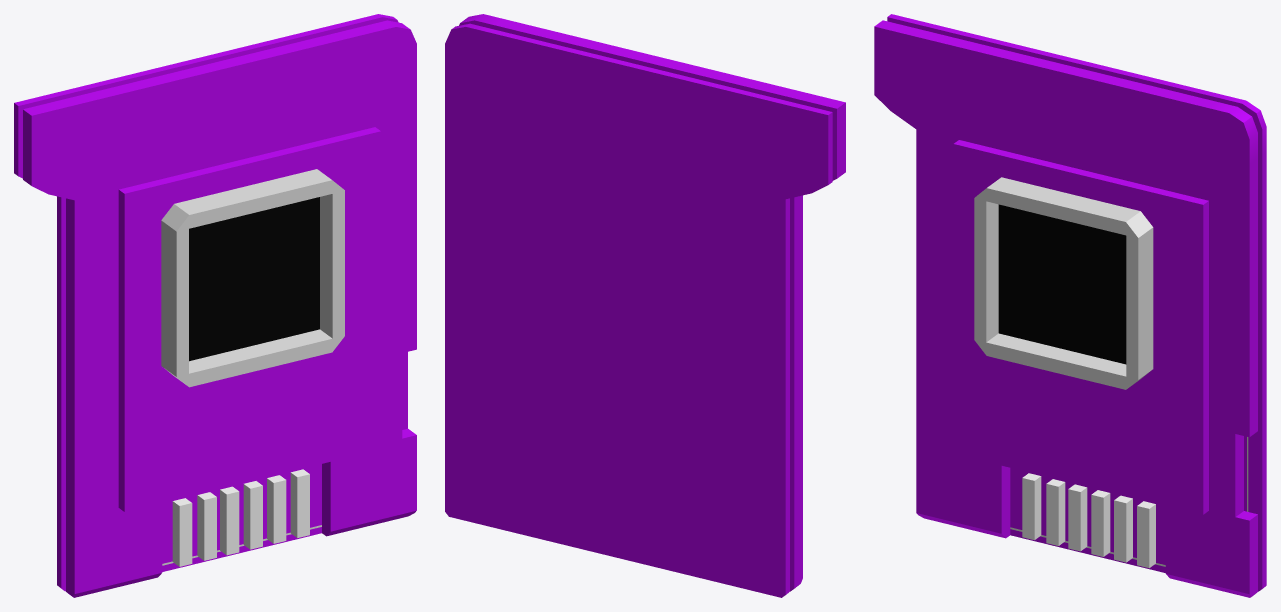
File: BossKey.fbx
The picture shows the model from 3 angles, left to right: view 1: azimuth 30°, elevation 25°; view 2: azimuth 150°, elevation 25°; view 3: azimuth 330°, elevation 25°; orthographic projection. The views are drawn at different scales.
Parts seen in each view (by area): view 1: BossKey; view 2: BossKey; view 3: BossKey.
Boxes of the visible parts, bbox=[...] form: BossKey: bbox=[14, 14, 416, 597]; BossKey: bbox=[445, 14, 845, 597]; BossKey: bbox=[874, 14, 1266, 597].
Bounding box in the file's own units: 40.82 × 50.3 × 7.11.
